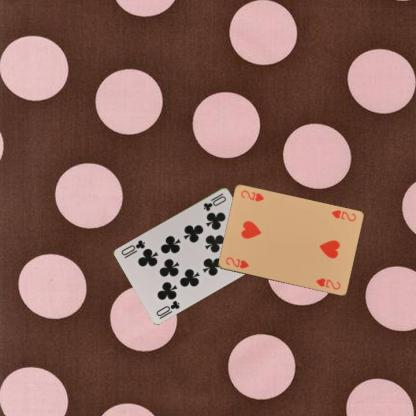10c: (154, 298, 181, 320), (200, 191, 228, 212)
2h: (329, 208, 357, 223), (223, 255, 250, 270)
